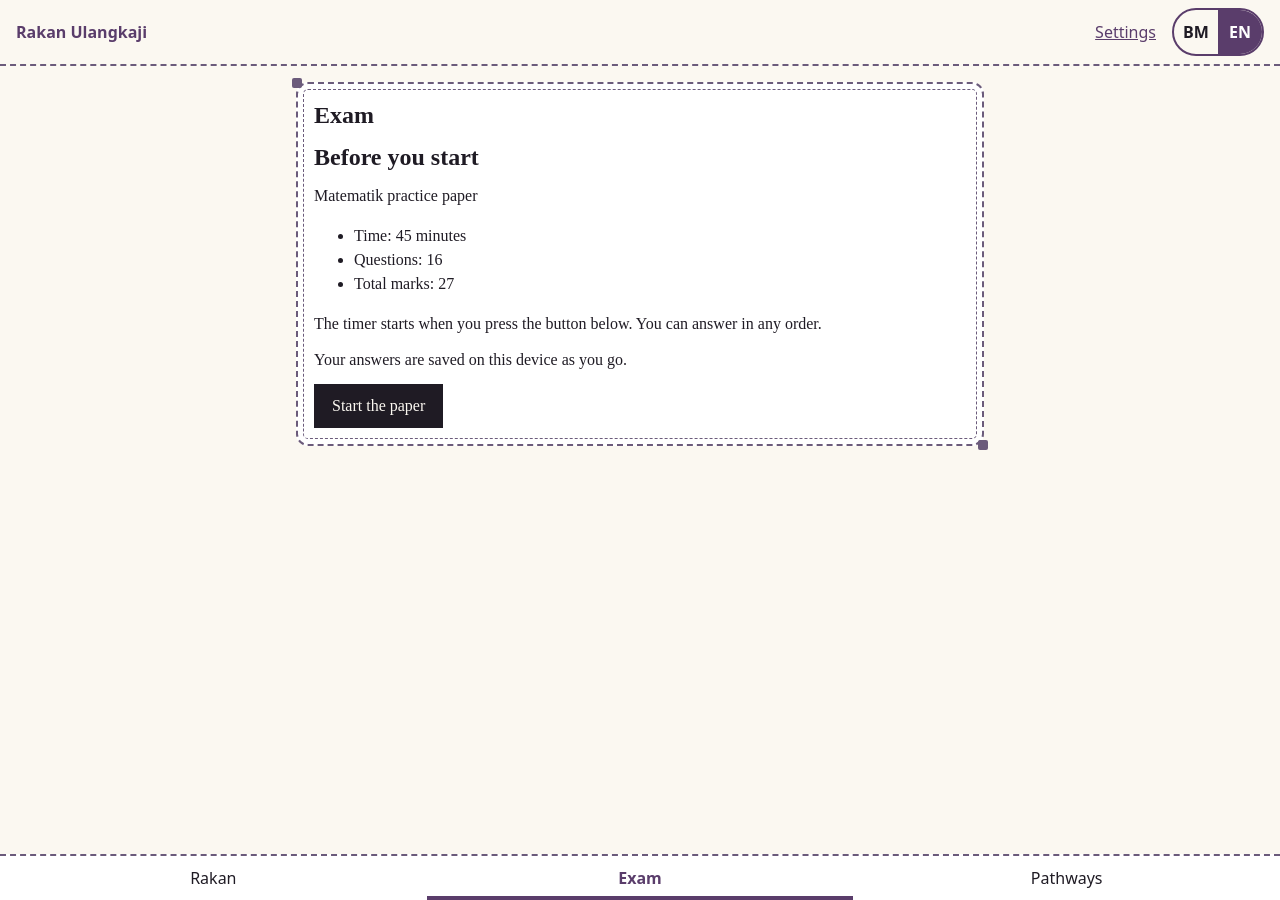
exam flow › shows instructions first and does not start the timer until Start
Expected: the heading "Before you start" is shown, left=314, top=144, right=479, bottom=170
Expected: the list item "Time: 45 minutes" is shown, left=354, top=227, right=466, bottom=244
Click the button "Start the paper" at (379, 406), box left=314, top=384, right=443, bottom=428
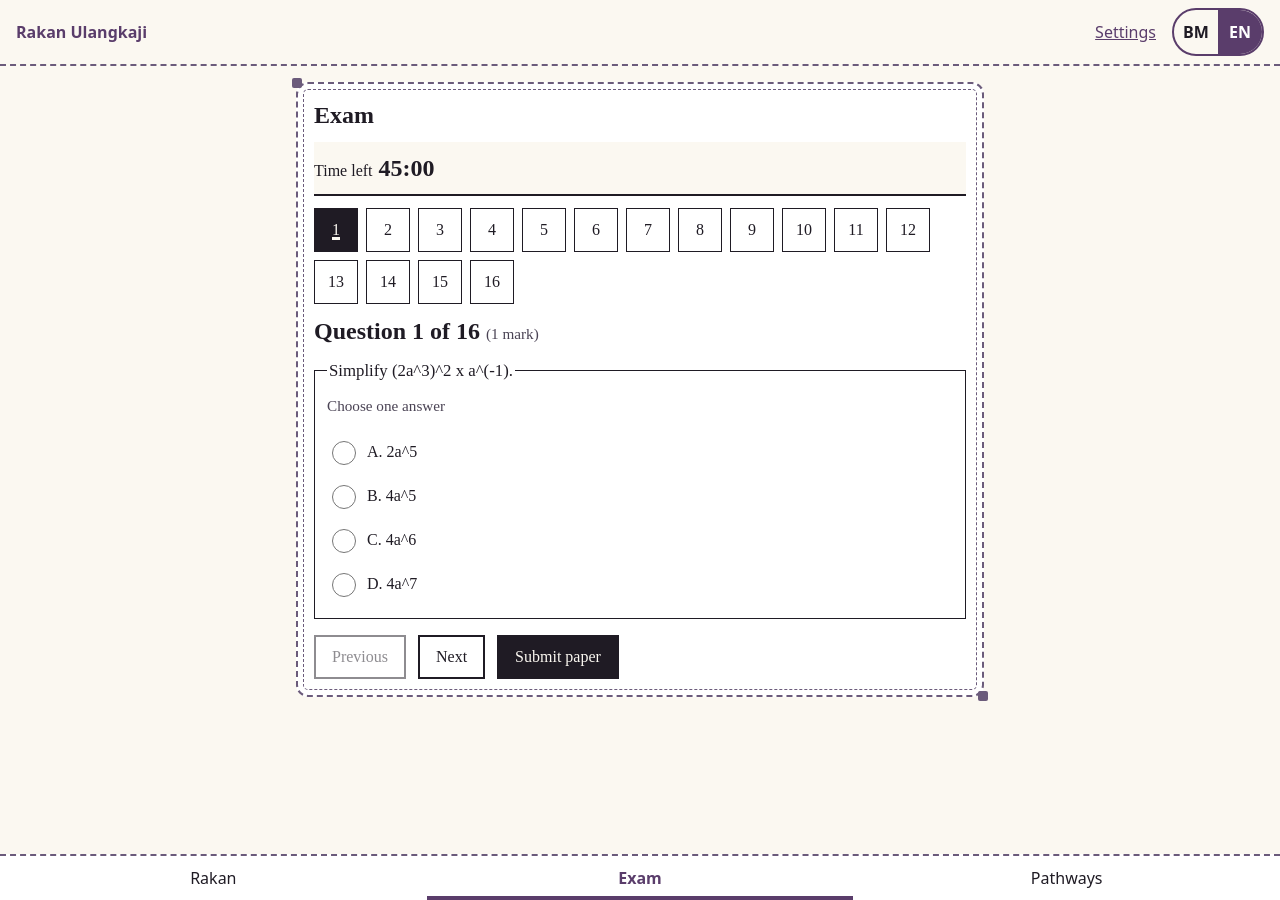
Result: the element showing "Time left 45:00" is shown at left=314, top=155, right=434, bottom=181
